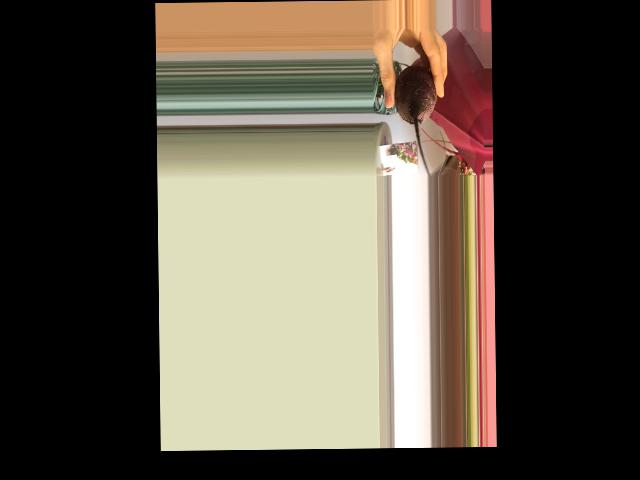beet: (393, 63, 437, 177)
